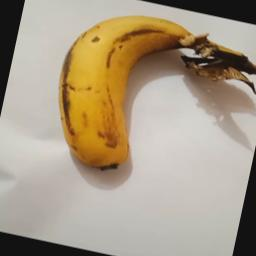Banana Unripe: (42, 0, 256, 196)
